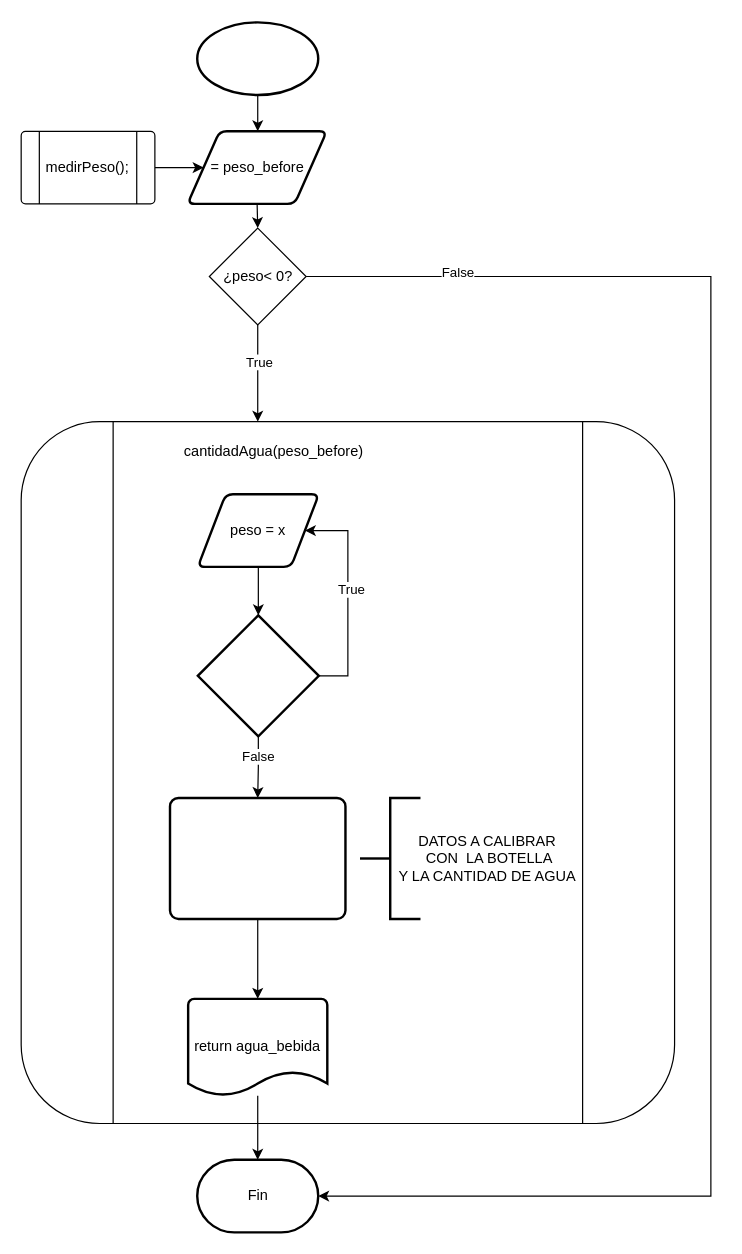
This 742x1254 diagram has some shape labels left out. The box of each missing label's shape, as (x1, y1, x2, y2) in pixels:
agua_bebida = peso_before - peso: (168, 796, 346, 920)
Inicio: (195, 21, 319, 96)
¿peso < 0?: (196, 613, 319, 737)
